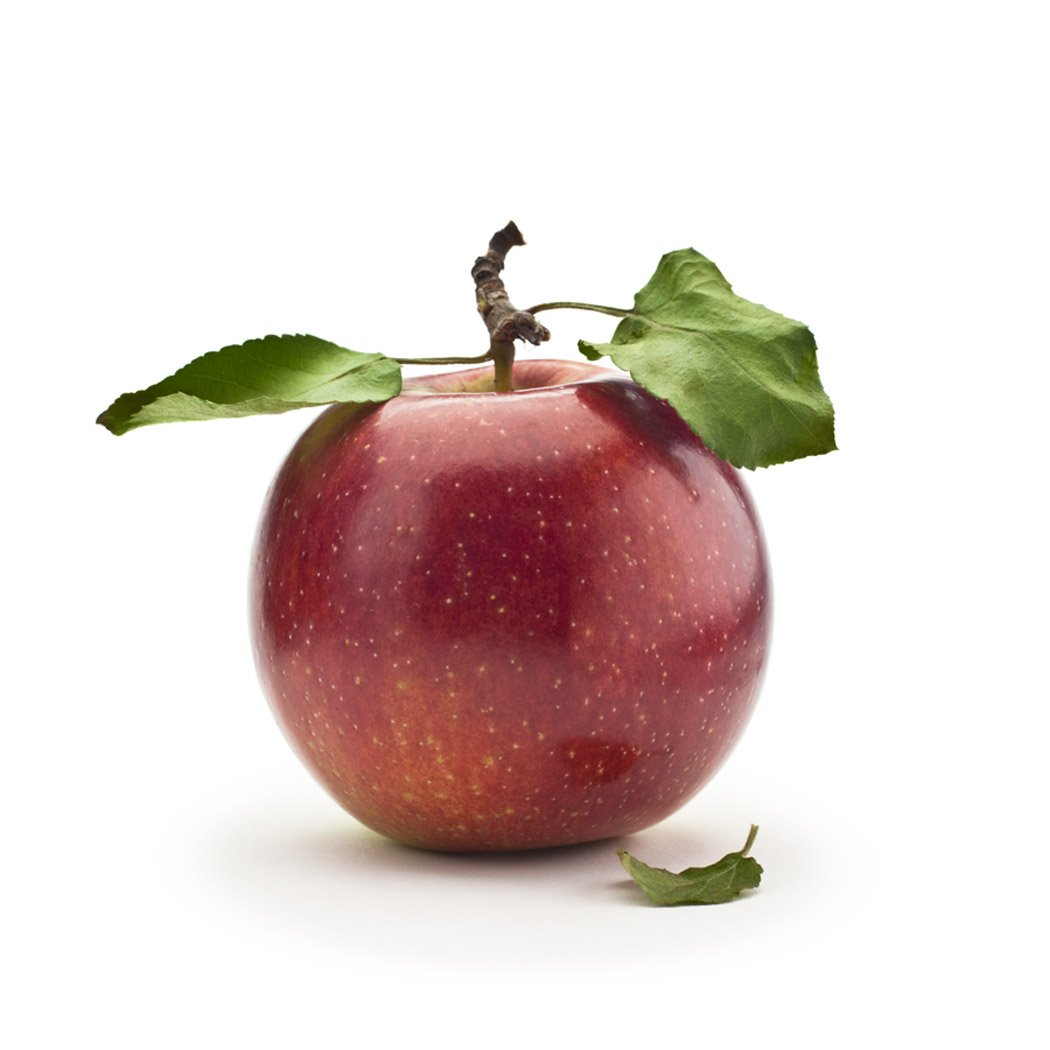apple: (248, 360, 775, 855)
